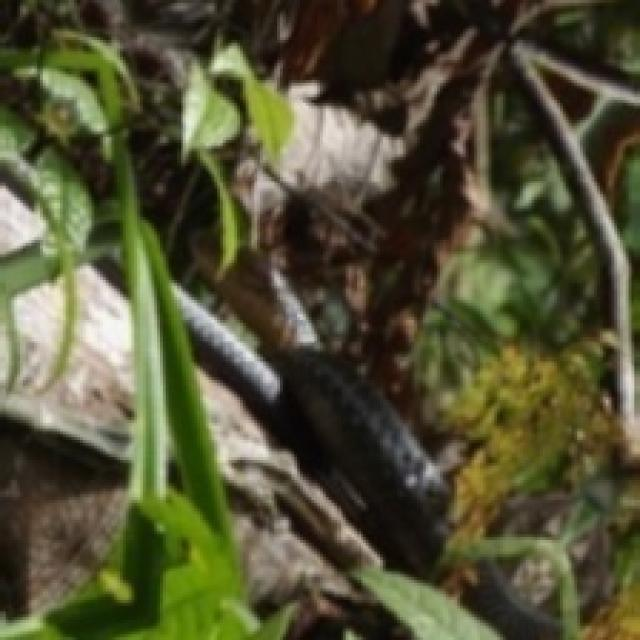king cobra: (179, 236, 449, 578)
